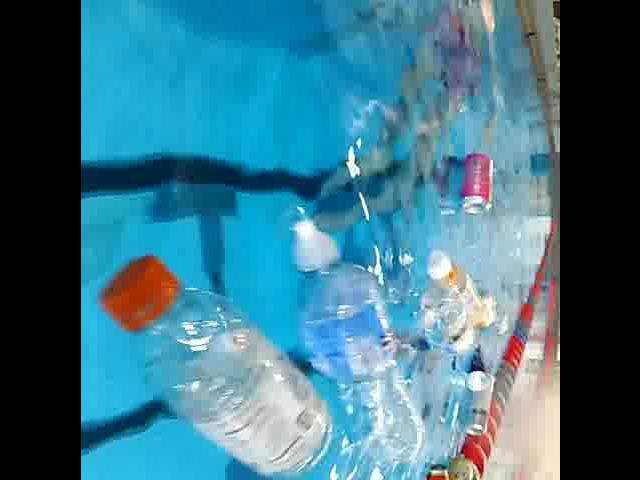Bottle: (95, 246, 335, 480), (289, 208, 429, 466), (426, 249, 488, 333)
Can: (458, 368, 498, 442), (460, 151, 496, 217), (433, 454, 476, 480), (413, 462, 453, 480)
